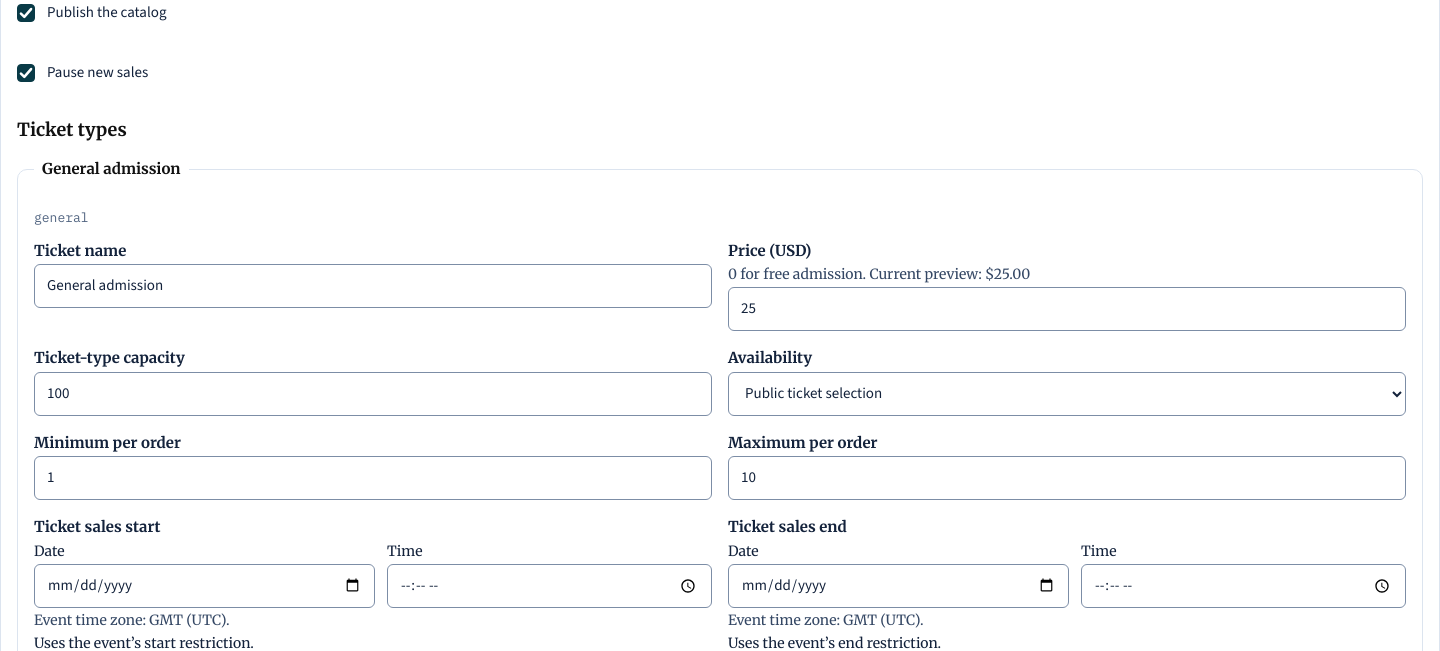
Test: catalog save reconciliation › preserves the draft when reconciliation fails and retries the read before allowing another save
(page scrolled)
Replace the text in the field labelled "Ticket name" with "Retained draft": (373, 286) [34,264,712,308]
(page scrolled)
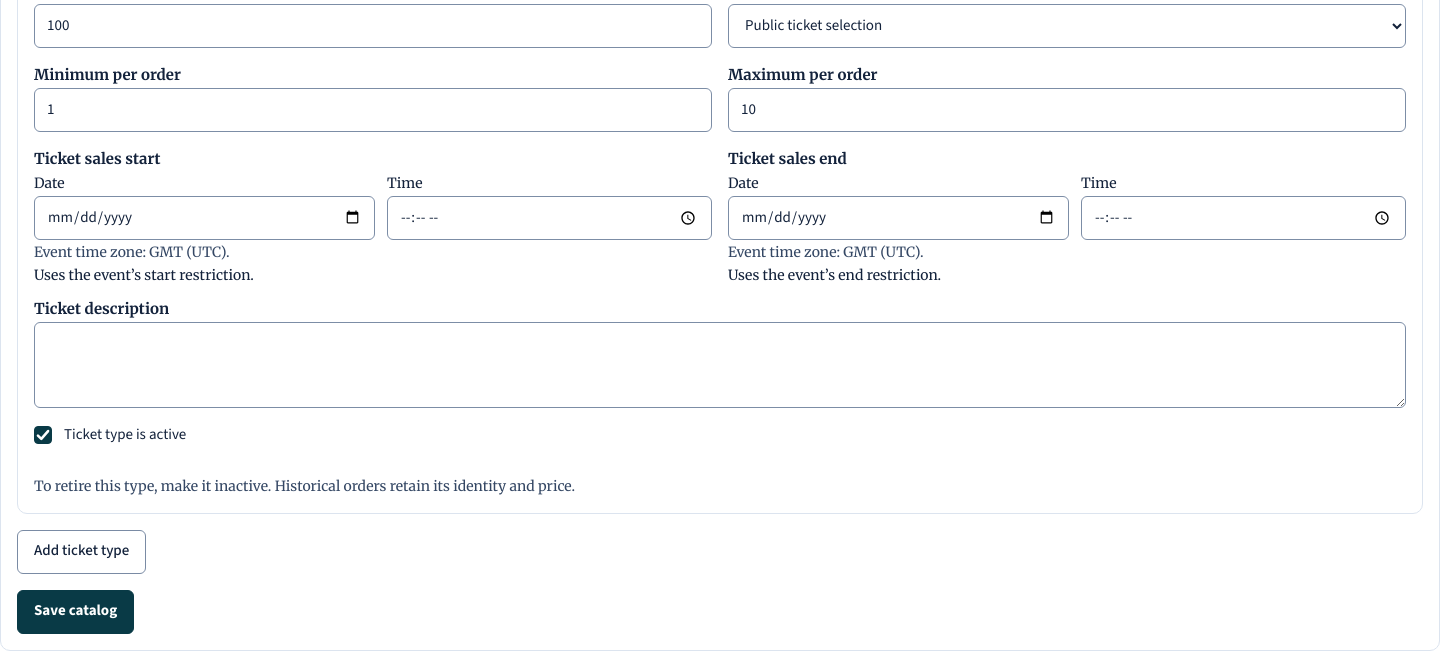
Click the button "Save catalog": (76, 612) [17,590,134,634]
(page scrolled)
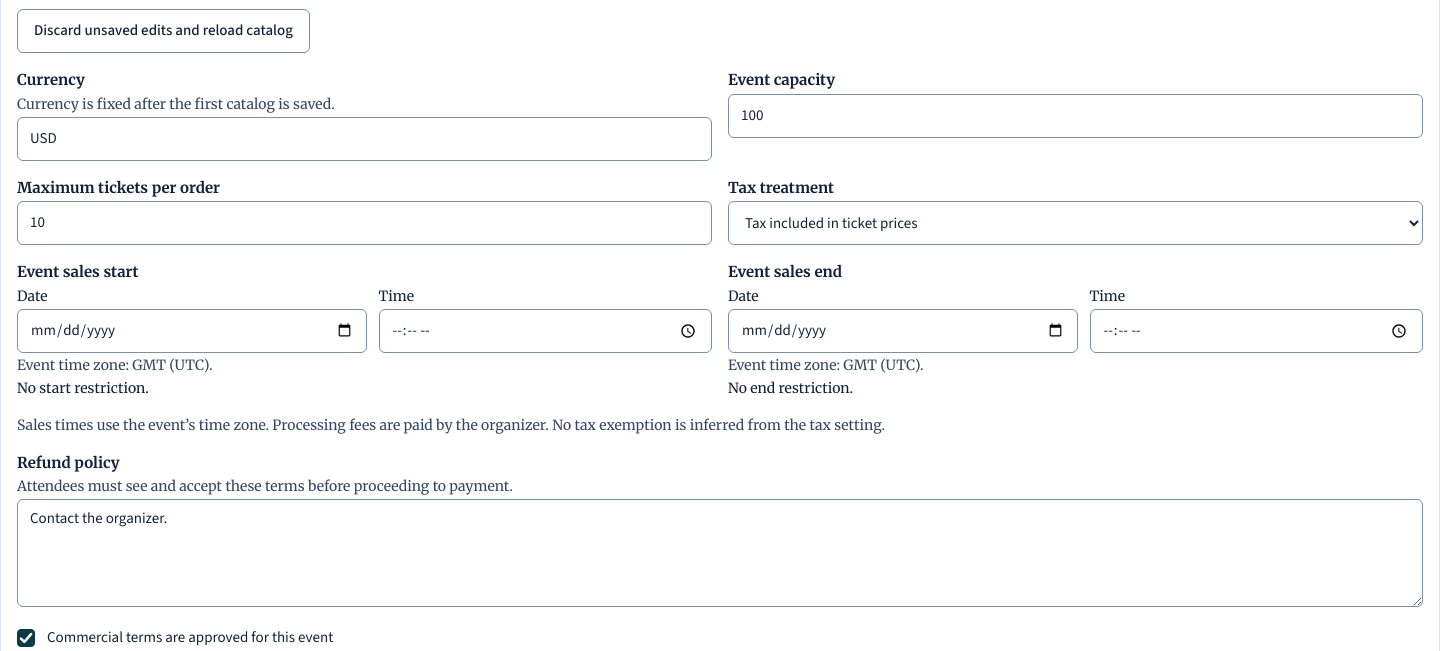
Click the button "Discard unsaved edits and reload catalog": (163, 31) [17,9,310,53]
(page scrolled)
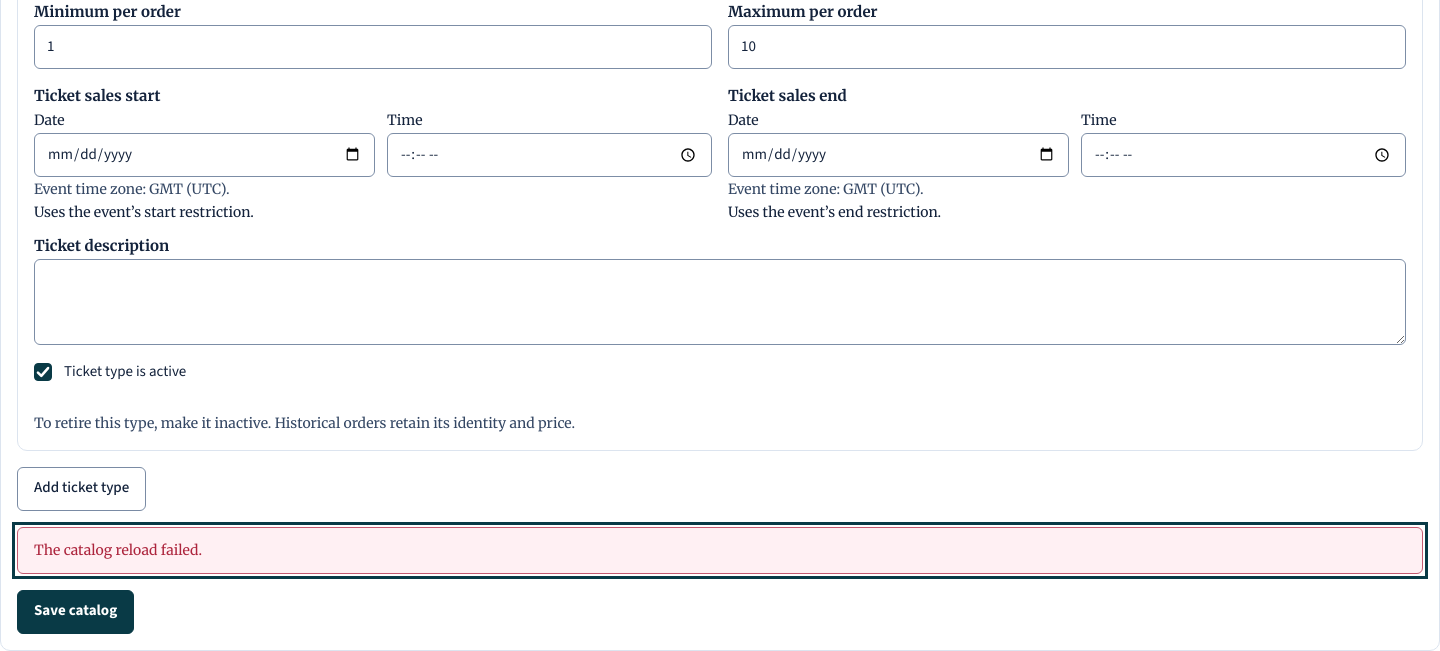
Now the text "The catalog reload failed." is shown, box [17,527,1423,574]
Click the button "Save catalog": (76, 612) [17,590,134,634]
(page scrolled)
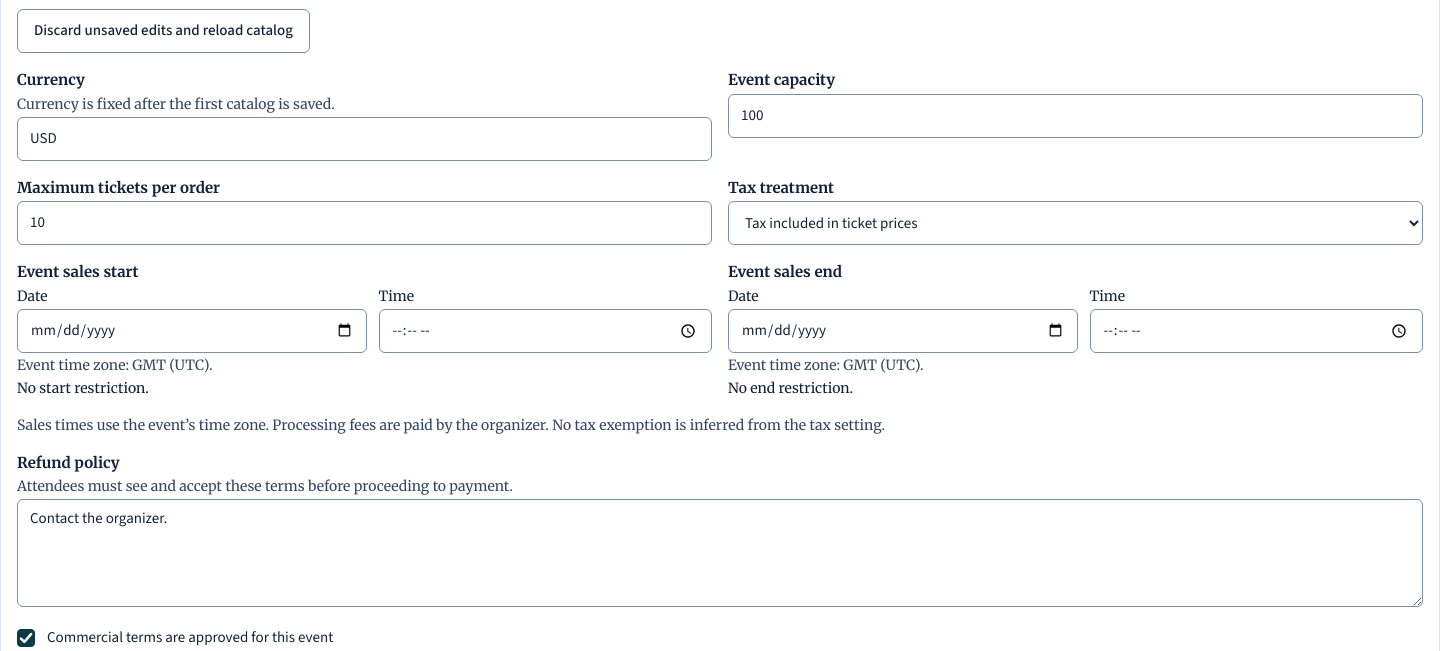
Click the button "Discard unsaved edits and reload catalog": (163, 31) [17,9,310,53]
(page scrolled)
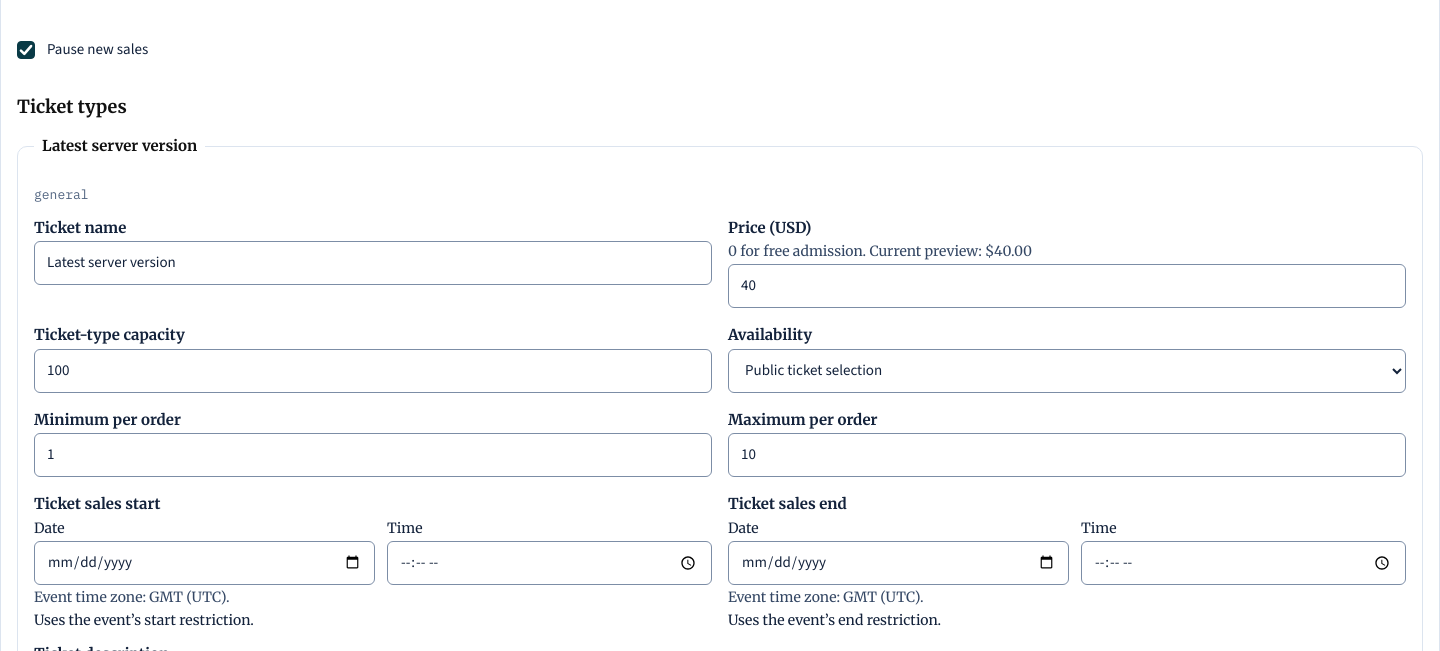
Now the field labelled "Ticket name" holds "Latest server version", box [34,241,712,285]
Now the field labelled "Price (USD)" holds "40", box [728,264,1406,308]
Now the button "Discard unsaved edits and reload catalog" is gone
